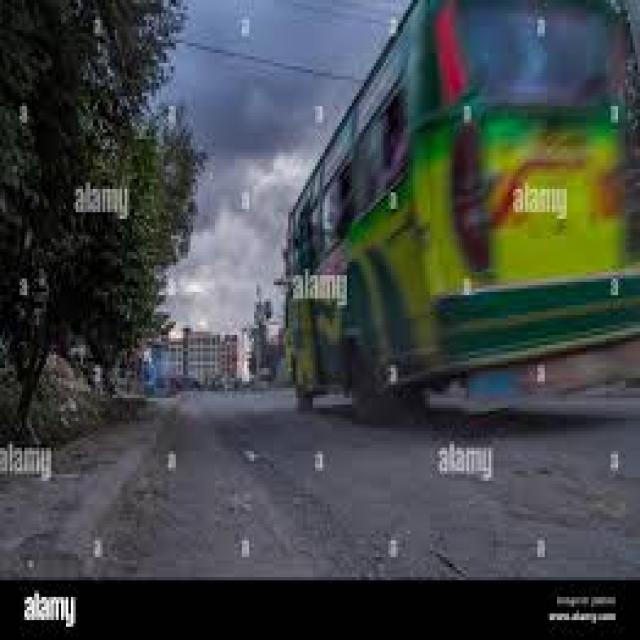bus: (263, 0, 636, 449)
